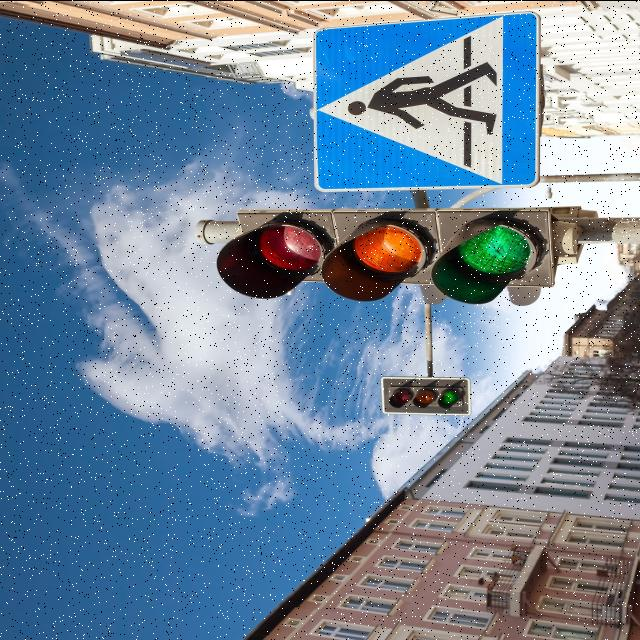green: (219, 214, 555, 300), (384, 382, 464, 414)
